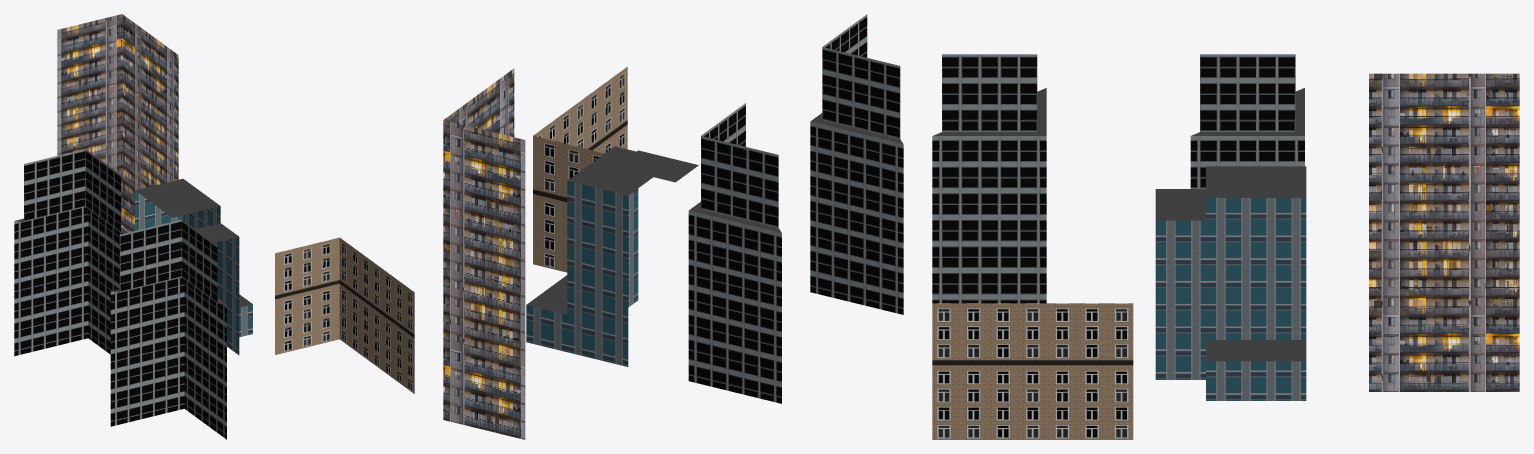
Rendered from buildings-mobile.glb.
3 renders of one model, left to right at view 1: azimuth 30°, elevation 25°; view 2: azimuth 150°, elevation 25°; view 3: azimuth 270°, elevation 25°, orthographic. The views are drawn at different scales.
Parts seen in each view (by area): view 1: Cube.002, Cube.004, Cube, Cube.003, Cube.001; view 2: Cube, Cube.002, Cube.004, Cube.001, Cube.003; view 3: Cube, Cube.001, Cube.003, Cube.002, Cube.004.
Boxes of the visible parts, left/top/right/bottom form: Cube.002: left=110, top=219, right=226, bottom=439; Cube.004: left=14, top=149, right=128, bottom=356; Cube: left=57, top=14, right=178, bottom=232; Cube.003: left=275, top=237, right=414, bottom=393; Cube.001: left=135, top=179, right=252, bottom=354; Cube: left=443, top=68, right=525, bottom=439; Cube.002: left=810, top=14, right=903, bottom=314; Cube.004: left=688, top=103, right=781, bottom=403; Cube.001: left=526, top=146, right=698, bottom=366; Cube.003: left=533, top=66, right=627, bottom=272; Cube: left=1369, top=73, right=1519, bottom=391; Cube.001: left=1155, top=166, right=1306, bottom=400; Cube.003: left=932, top=303, right=1133, bottom=439; Cube.002: left=932, top=54, right=1046, bottom=303; Cube.004: left=1190, top=54, right=1304, bottom=188.
Bounding box in the file's own units: 8.06 × 7 × 11.69.
Materials: 5 (4 with a texture image).
